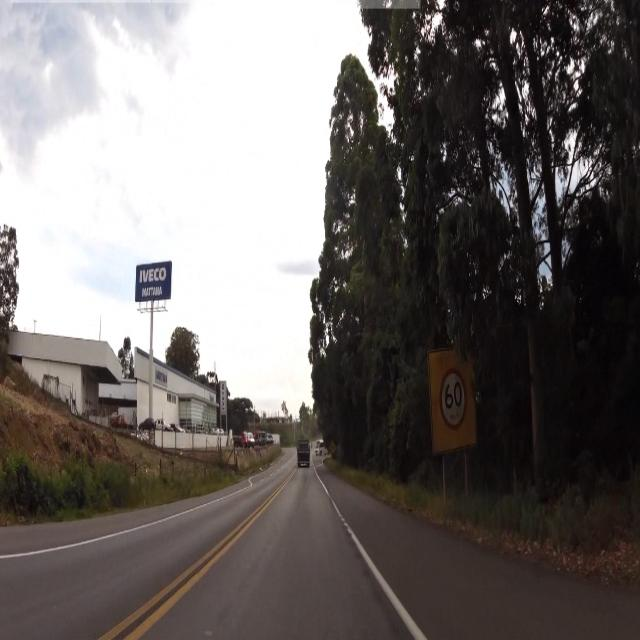R-19: (437, 368, 469, 434)
